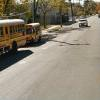Bus: (1, 14, 41, 54)
